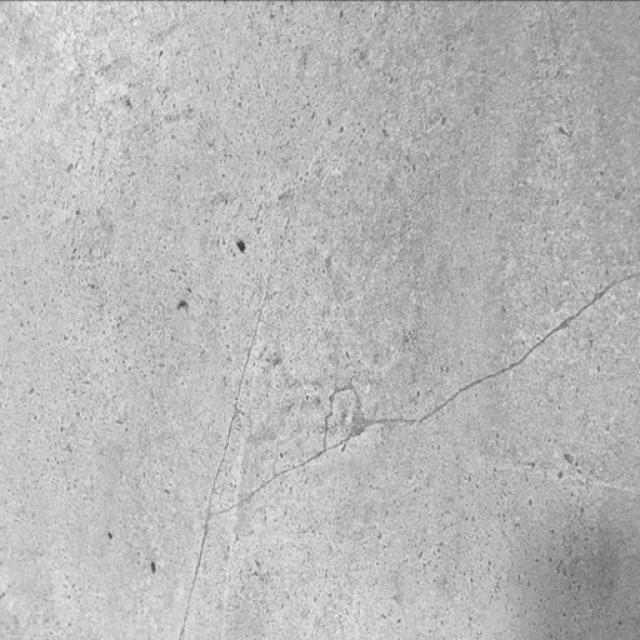SurfaceCrack: (29, 231, 639, 638)
